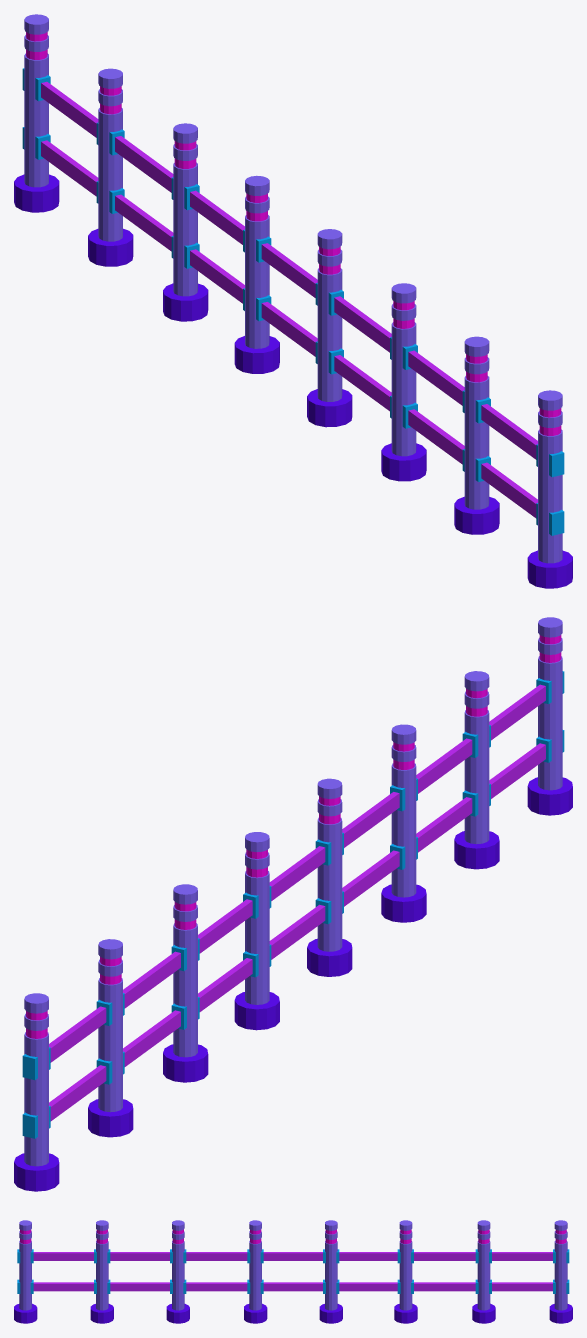
File: futuristic_road_barier_colored 1.fbx
The picture shows the model from 3 angles, top to bottom: view 1: azimuth 30°, elevation 25°; view 2: azimuth 150°, elevation 25°; view 3: azimuth 270°, elevation 25°; orthographic projection. The views are drawn at different scales.
Parts seen in each view (by area): view 1: Cylinder.004; view 2: Cylinder.004; view 3: Cylinder.004.
Part boxes in pixels (bbox=[...]): Cylinder.004: bbox=[14, 14, 572, 588]; Cylinder.004: bbox=[14, 617, 572, 1191]; Cylinder.004: bbox=[14, 1220, 572, 1323].
Bounding box in the file's own units: 62.27 × 278 × 1472.
